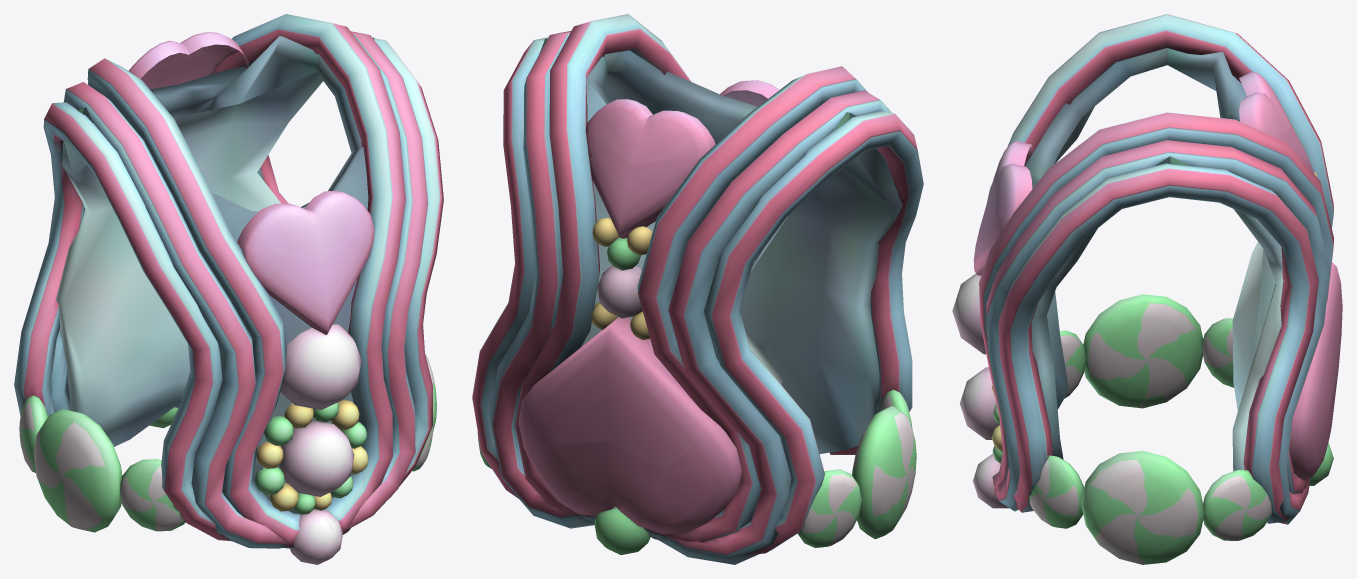
File: candyChest.glb
3 views of the same model, side by side, from view 1: azimuth 30°, elevation 25°; view 2: azimuth 150°, elevation 25°; view 3: azimuth 270°, elevation 25° (orthographic). The views are drawn at different scales.
Visible parts, largest first — view 1: chest; view 2: chest; view 3: chest.
Boxes of the visible parts, box(x1,y1,x2,y2) form: chest: box(14, 14, 443, 564); chest: box(472, 14, 923, 564); chest: box(952, 14, 1342, 564).
Bounding box in the file's own units: 0.4517 × 0.525 × 0.4186.
1 material, 1 textured.
